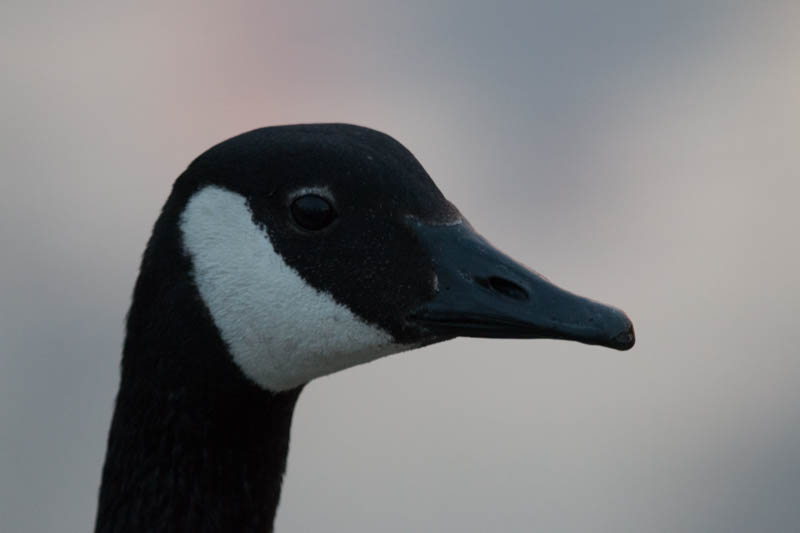goose-head: (133, 124, 636, 395)
